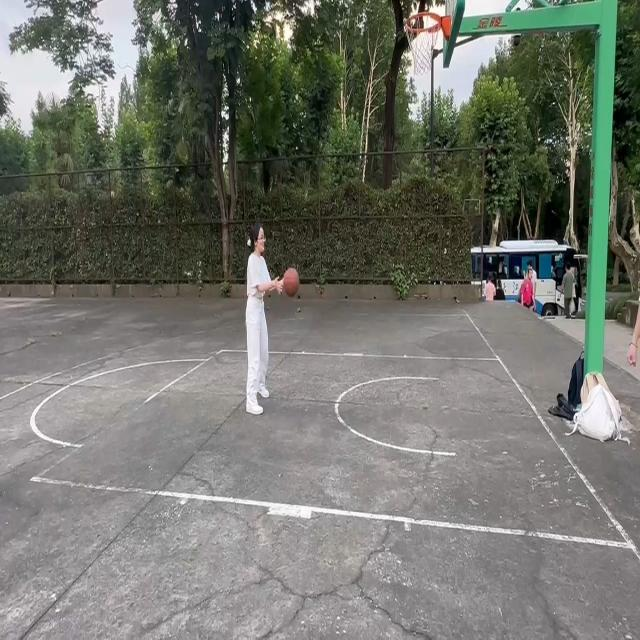basketball: (402, 11, 453, 86)
rim: (282, 268, 300, 298)
